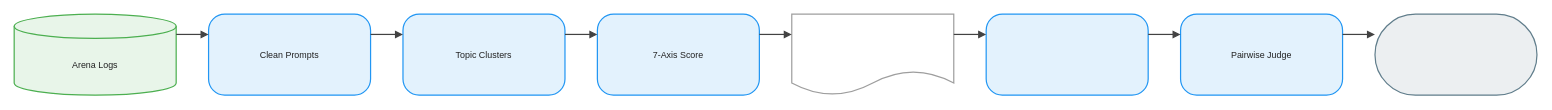
Some shapes in this 1552 by 110 pixel diagram are drawn without their labels. The centre of each missing label's shape, as x and y in pixels:
BT Win Rate: [1455,54]
Model Replies: [1066,54]
Sample 500: [872,54]
